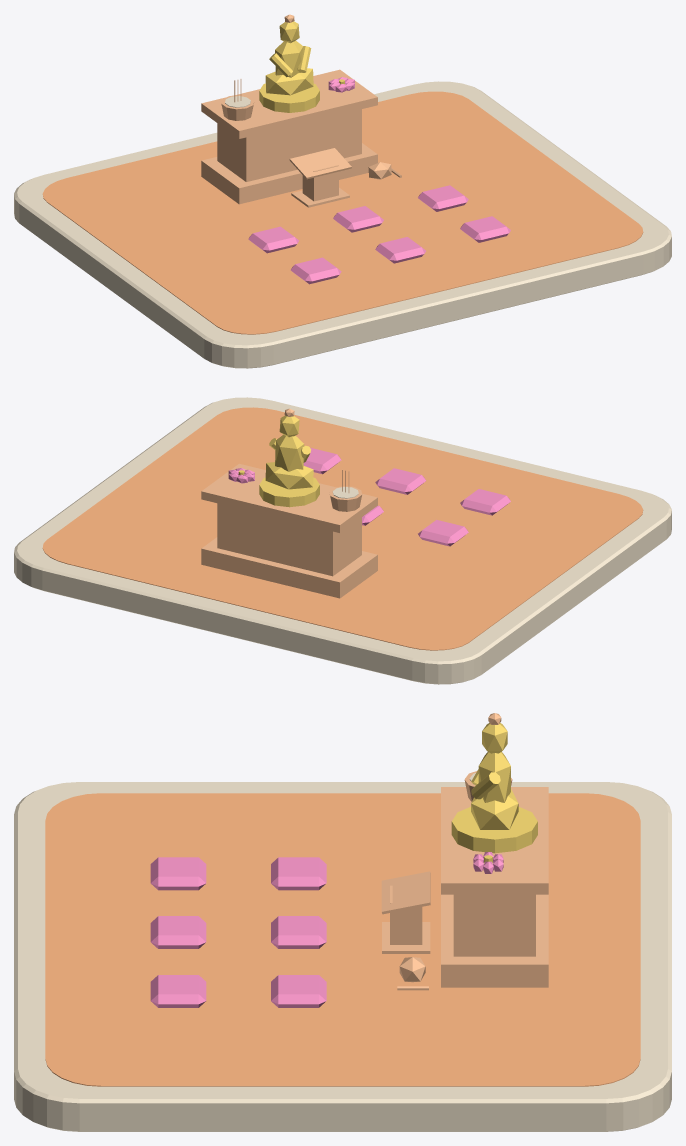
The model's file is room.fbx.
3 views of the same model, one above another, from view 1: azimuth 30°, elevation 25°; view 2: azimuth 150°, elevation 25°; view 3: azimuth 270°, elevation 25° (orthographic). The views are drawn at different scales.
Parts seen in each view (by area): view 1: COM-02 Floor Surface, COM-01 Rounded Base Direct, Altar, Top, Base, Reading top, Lotus base, Folded legs, Body, Meditation cushion, Meditation cushion.005, Meditation cushion.001 (+4 smaller); view 2: COM-02 Floor Surface, COM-01 Rounded Base Direct, Altar, Top, Base, Lotus base, Folded legs, Robe torso, Meditation cushion.004, Meditation cushion, Meditation cushion.003, Meditation cushion.005 (+1 smaller); view 3: COM-02 Floor Surface, COM-01 Rounded Base Direct, Top, Altar, Base, Lotus base, Meditation cushion.003, Meditation cushion, Meditation cushion.004, Meditation cushion.005, Meditation cushion.001, Meditation cushion.002 (+6 smaller).
Boxes of the visible parts, x1=… form: COM-02 Floor Surface: x1=42, y1=91, x2=643, y2=334; COM-01 Rounded Base Direct: x1=14, y1=81, x2=671, y2=368; Altar: x1=217, y1=109, x2=361, y2=181; Top: x1=201, y1=69, x2=377, y2=138; Base: x1=201, y1=143, x2=377, y2=204; Reading top: x1=289, y1=148, x2=351, y2=179; Lotus base: x1=259, y1=83, x2=319, y2=112; Folded legs: x1=265, y1=68, x2=313, y2=95; Body: x1=302, y1=165, x2=338, y2=201; Meditation cushion: x1=248, y1=226, x2=299, y2=253; Meditation cushion.005: x1=460, y1=216, x2=510, y2=242; Meditation cushion.001: x1=333, y1=206, x2=383, y2=232; COM-02 Floor Surface: x1=42, y1=407, x2=643, y2=650; COM-01 Rounded Base Direct: x1=14, y1=397, x2=671, y2=684; Altar: x1=217, y1=503, x2=361, y2=576; Top: x1=201, y1=463, x2=377, y2=532; Base: x1=201, y1=537, x2=377, y2=598; Lotus base: x1=259, y1=477, x2=319, y2=507; Folded legs: x1=265, y1=462, x2=313, y2=489; Robe torso: x1=275, y1=435, x2=304, y2=471; Meditation cushion.004: x1=375, y1=468, x2=426, y2=494; Meditation cushion: x1=418, y1=519, x2=468, y2=546; Meditation cushion.003: x1=460, y1=489, x2=510, y2=515; Meditation cushion.005: x1=303, y1=447, x2=341, y2=474; COM-02 Floor Surface: x1=45, y1=793, x2=640, y2=1086; COM-01 Rounded Base Direct: x1=14, y1=782, x2=671, y2=1131; Top: x1=441, y1=787, x2=548, y2=894; Altar: x1=453, y1=894, x2=535, y2=956; Base: x1=441, y1=894, x2=548, y2=987; Lotus base: x1=451, y1=807, x2=537, y2=853; Meditation cushion.003: x1=150, y1=857, x2=206, y2=890; Meditation cushion: x1=271, y1=857, x2=326, y2=890; Meditation cushion.004: x1=150, y1=916, x2=206, y2=948; Meditation cushion.005: x1=150, y1=975, x2=206, y2=1007; Meditation cushion.001: x1=271, y1=916, x2=326, y2=948; Meditation cushion.002: x1=271, y1=975, x2=326, y2=1007.
Size of the model in its own units: 600 by 227 by 520.
